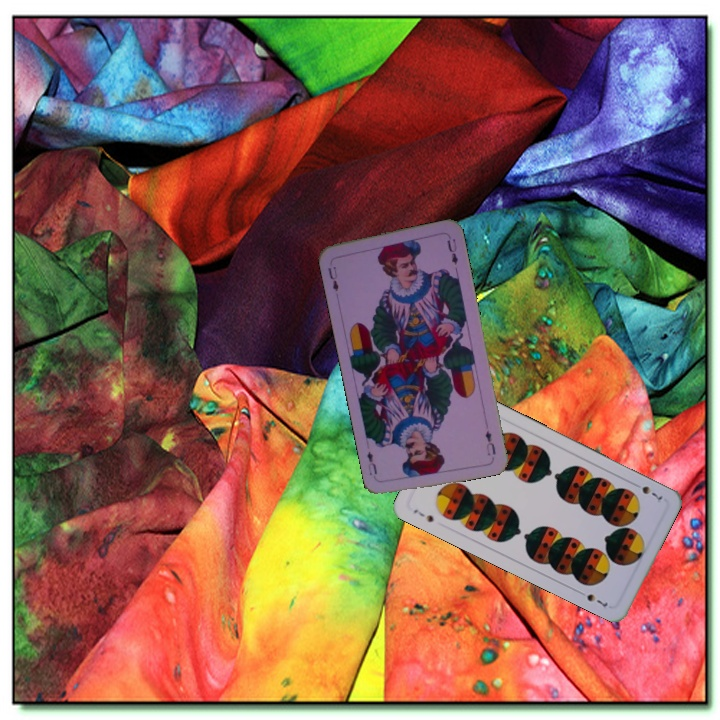EU: (324, 262, 341, 294), (481, 426, 498, 458)
S7: (629, 479, 665, 503), (409, 505, 436, 525)
